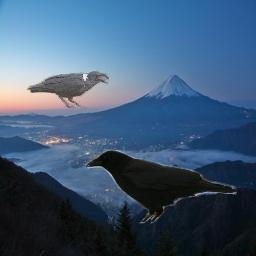Crow: (81, 146, 237, 224), (26, 70, 110, 109)
